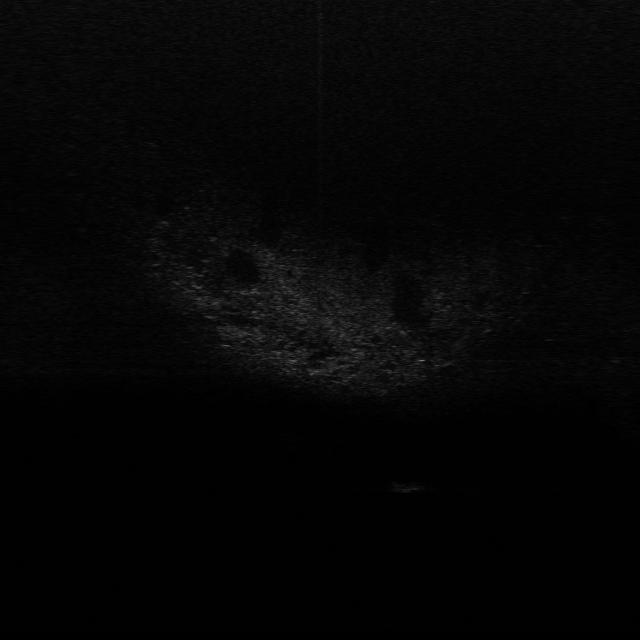cube: (390, 480, 430, 494)
